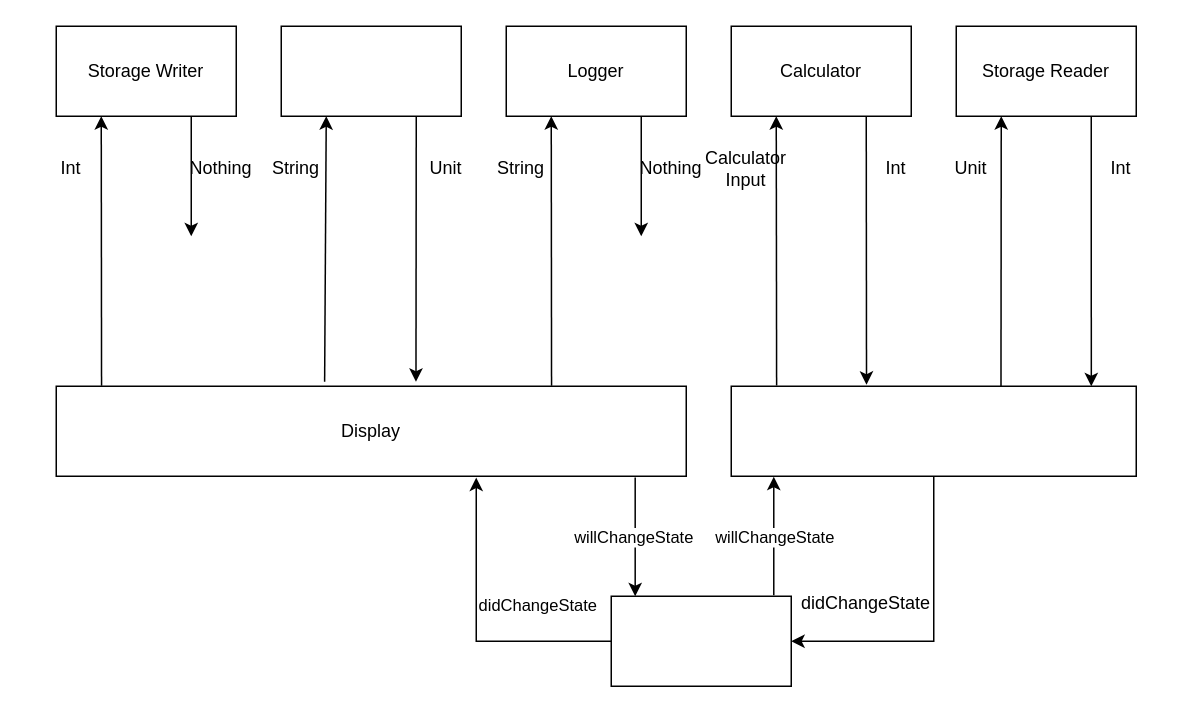
The diagram is 1191 pixels wide and 713 high, and some of its shapes have lost their labels. The centre of each missing label's shape, as x and y in pixels:
Domain: [933,430]
MainActivity: [700,640]
MainFragment: [370,70]
